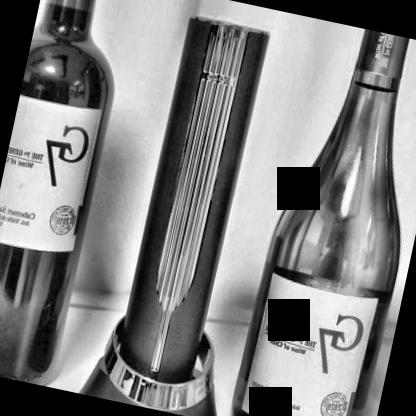G7: (0, 90, 105, 263)
